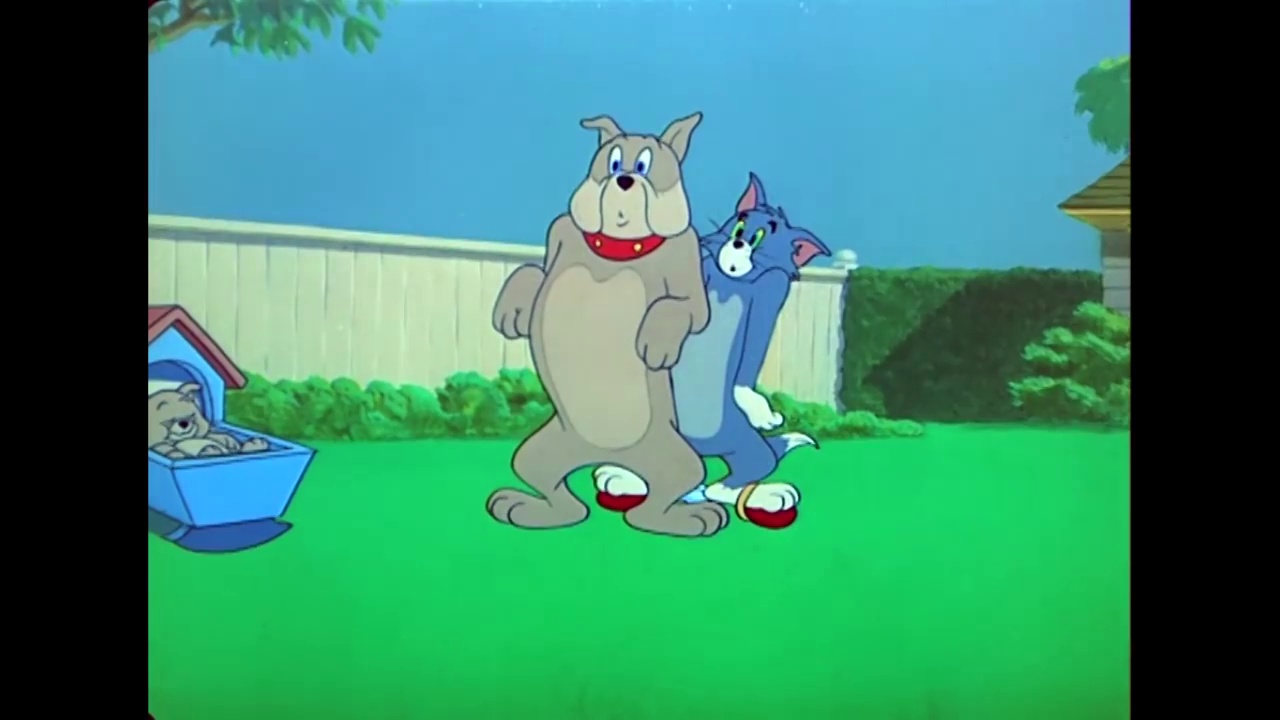spike: (562, 110, 709, 260)
tom: (698, 172, 831, 285)
